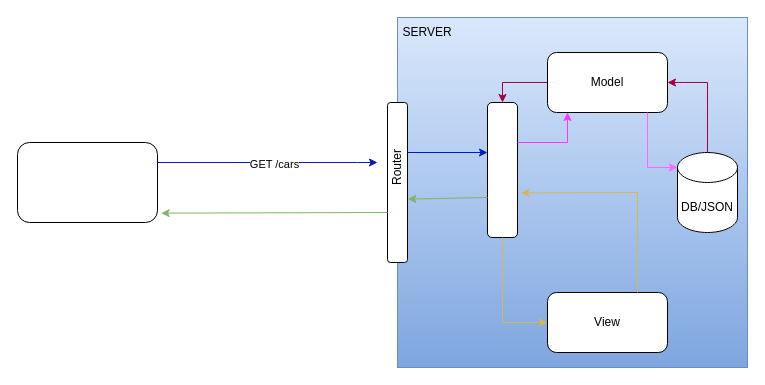
Some shapes in this 765 by 385 pixel diagram are drawn without their labels. Here are the shapes that lost their labels. From the top down, the centre of each, then its label:
point (87, 182): FE/CLIENT
point (502, 170): Controller
